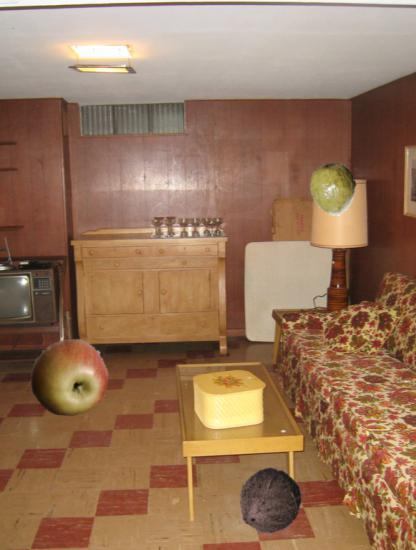Apple: (30, 338, 110, 418)
Cocos: (236, 466, 305, 535)
Guava: (307, 162, 362, 217)
